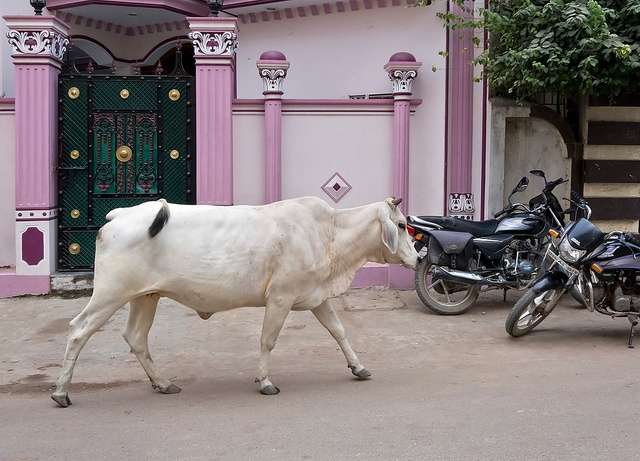non-vehicle: (415, 164, 567, 310), (509, 203, 640, 338)
